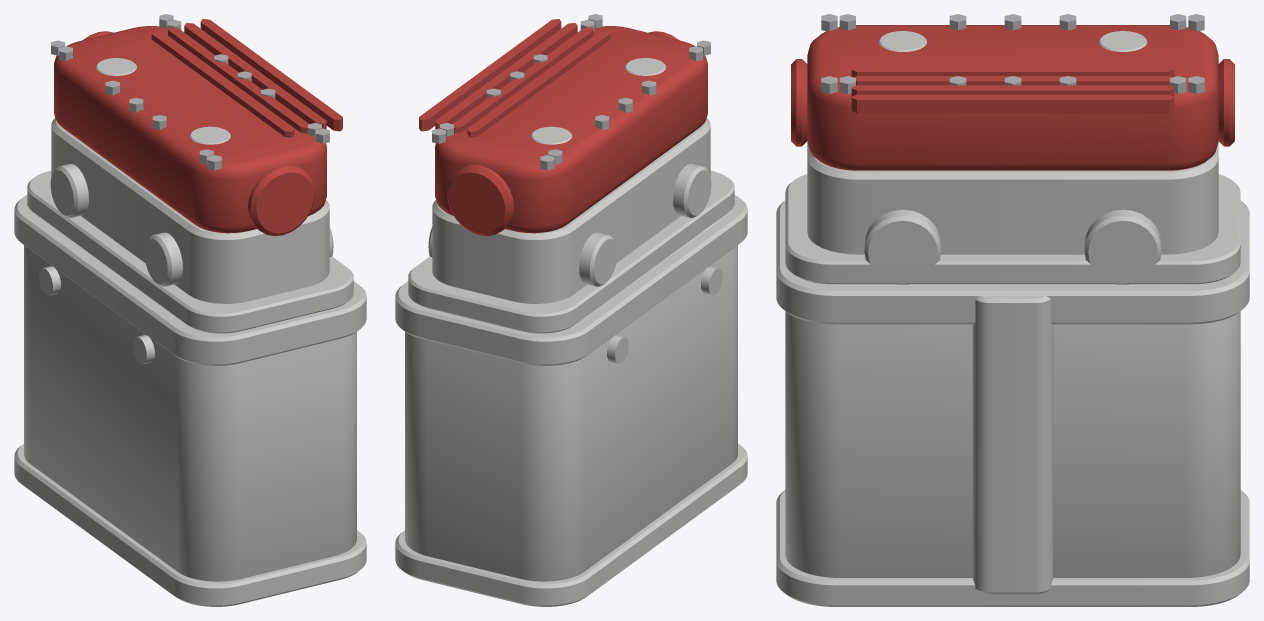
Rendered from hot_cam.glb.
3 views of the same model, side by side, from view 1: azimuth 30°, elevation 25°; view 2: azimuth 150°, elevation 25°; view 3: azimuth 270°, elevation 25° (orthographic). The views are drawn at different scales.
Visible parts, largest first — view 1: hot_cam; view 2: hot_cam; view 3: hot_cam.
Boxes of the visible parts, box(x1,y1,x2,y2) form: hot_cam: box(14, 14, 366, 606); hot_cam: box(395, 14, 747, 606); hot_cam: box(776, 14, 1249, 606).
Bounding box in the file's own units: 0.146 × 0.3043 × 0.258.
